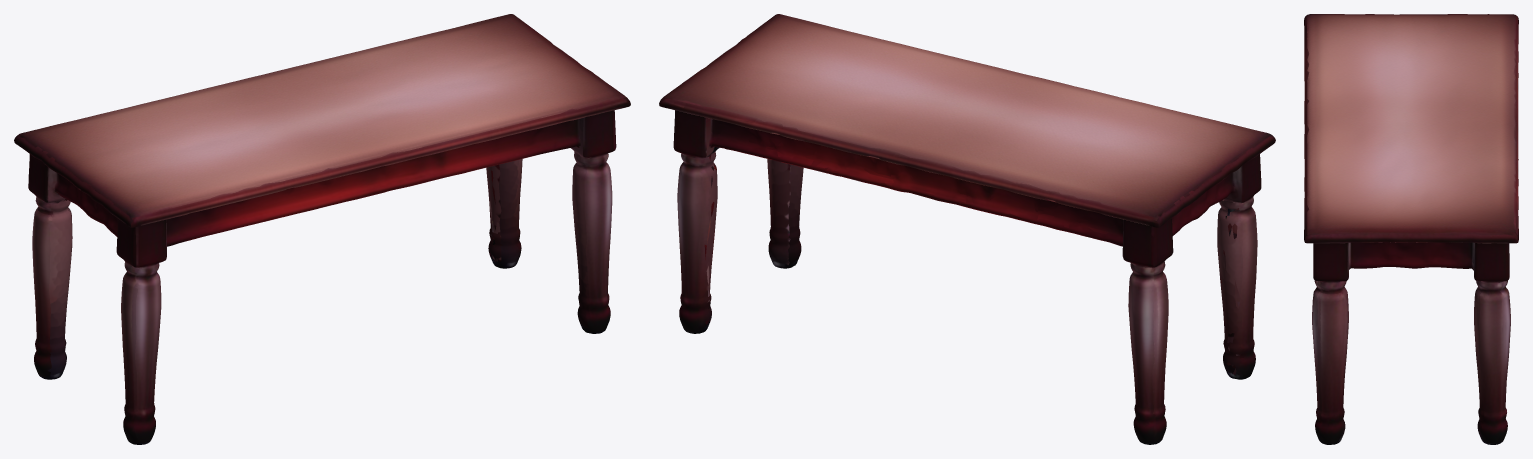
3 renders of one model, left to right at view 1: azimuth 30°, elevation 25°; view 2: azimuth 150°, elevation 25°; view 3: azimuth 270°, elevation 25°, orthographic. The views are drawn at different scales.
Parts seen in each view (by area): view 1: tmpq2nz5e77.ply; view 2: tmpq2nz5e77.ply; view 3: tmpq2nz5e77.ply.
Part boxes in pixels (left/top/right/bottom): tmpq2nz5e77.ply: left=14, top=14, right=630, bottom=444; tmpq2nz5e77.ply: left=659, top=14, right=1275, bottom=444; tmpq2nz5e77.ply: left=1304, top=14, right=1518, bottom=444.
Bounding box in the file's own units: 1.99 × 0.9145 × 0.8101.
Materials: 1 (1 with a texture image).
